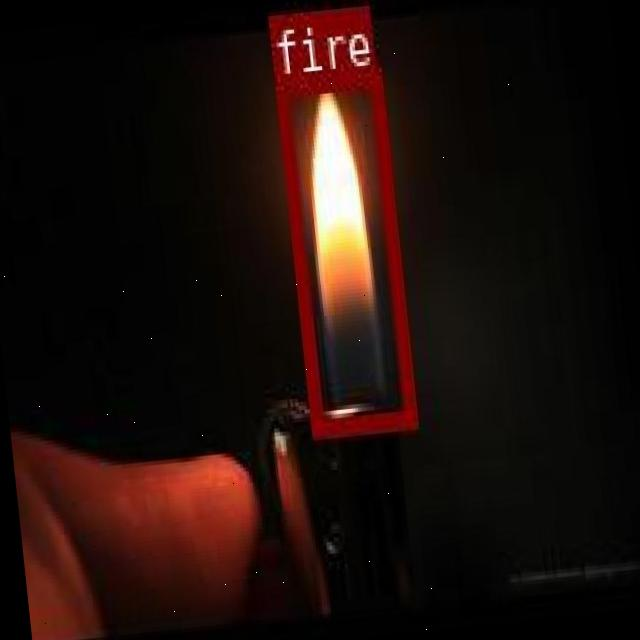fire: (272, 64, 414, 433)
